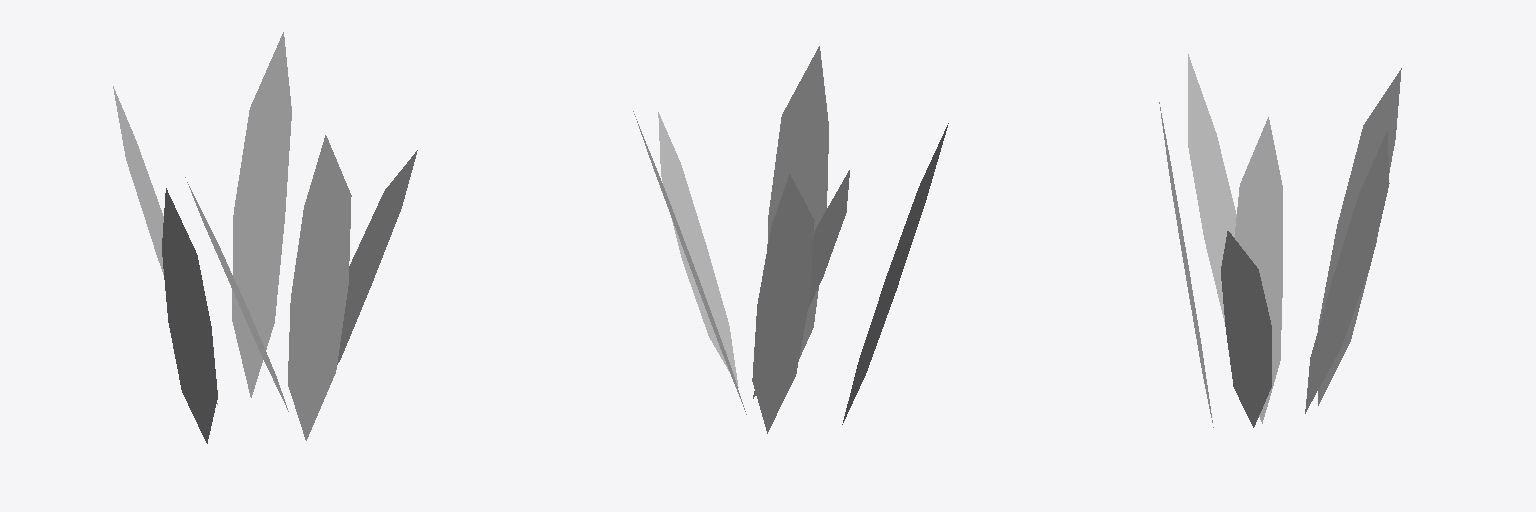
File: Straight_Blades.obj
3 renders of one model, left to right at view 1: azimuth 30°, elevation 25°; view 2: azimuth 150°, elevation 25°; view 3: azimuth 270°, elevation 25°, orthographic.
Parts seen in each view (by area): view 1: Plane; view 2: Plane; view 3: Plane.
Boxes of the visible parts, x1,y1,x2,y2 form: Plane: [113, 32, 417, 443]; Plane: [633, 46, 948, 433]; Plane: [1159, 54, 1401, 427].
Size of the model in its own units: 0.6816 by 0.7952 by 0.5282.